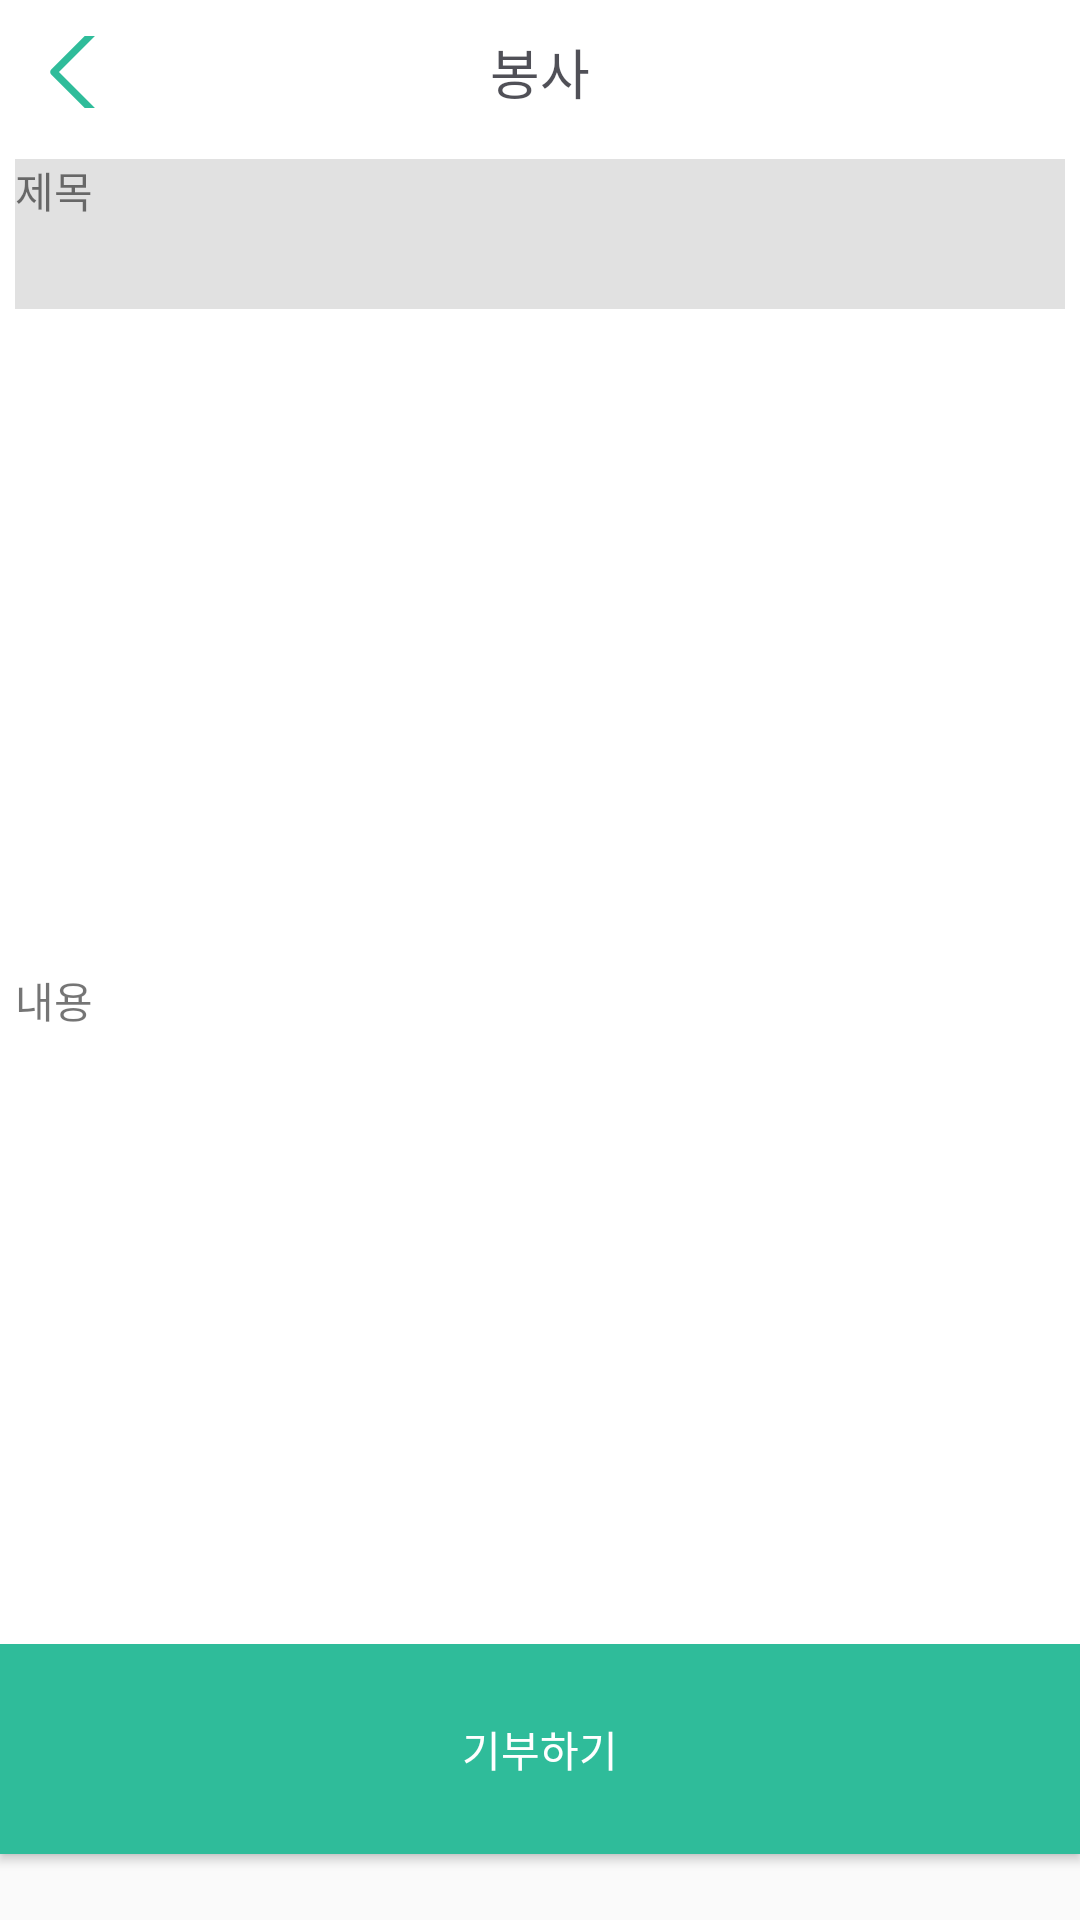

Where to tap for icons on this 1080×1920 app screen, as (x,y):
back: (72,72)
